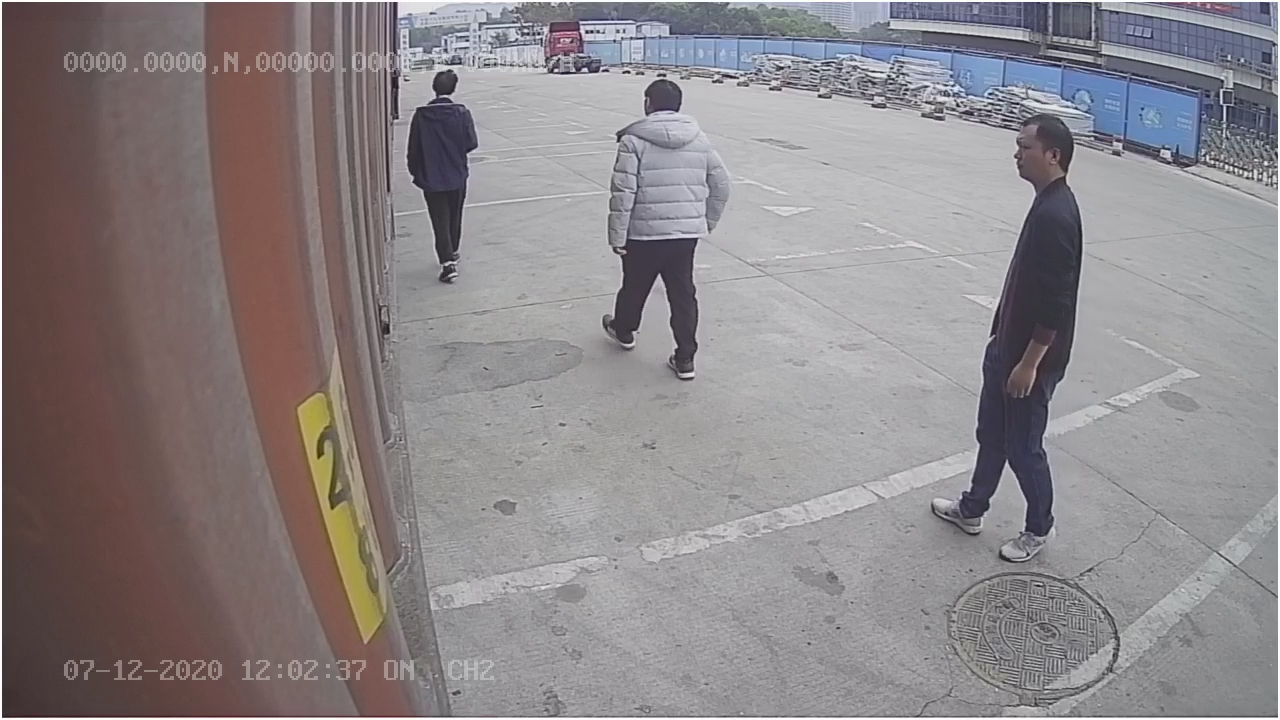person: (929, 103, 1091, 566), (597, 80, 729, 379)
